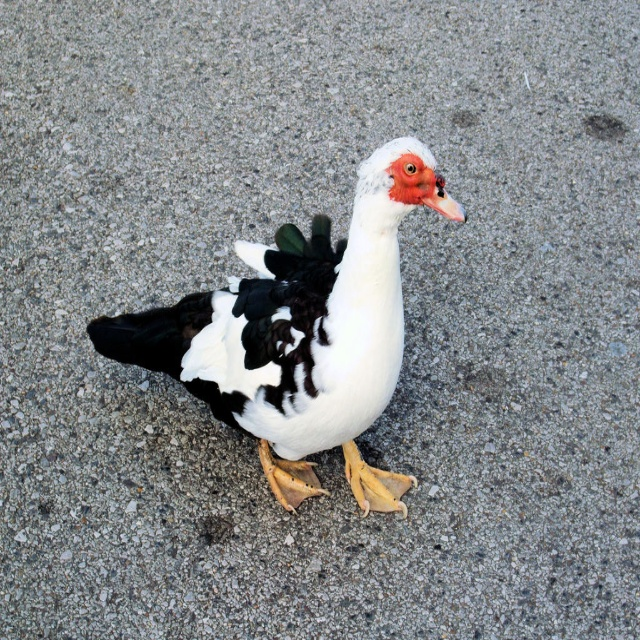Goose: (86, 135, 468, 519)
